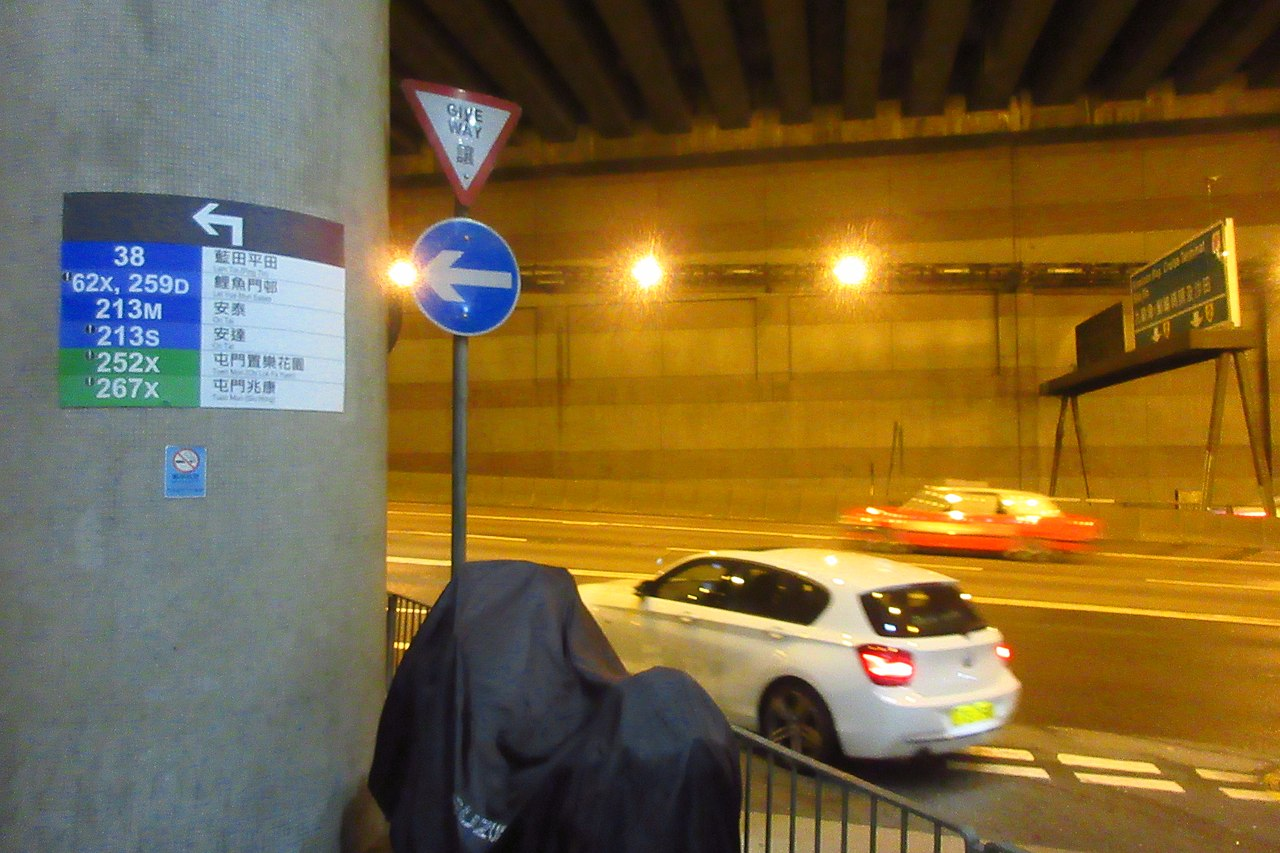Give Way: (400, 75, 524, 214)
Turn Left: (411, 214, 514, 337)
